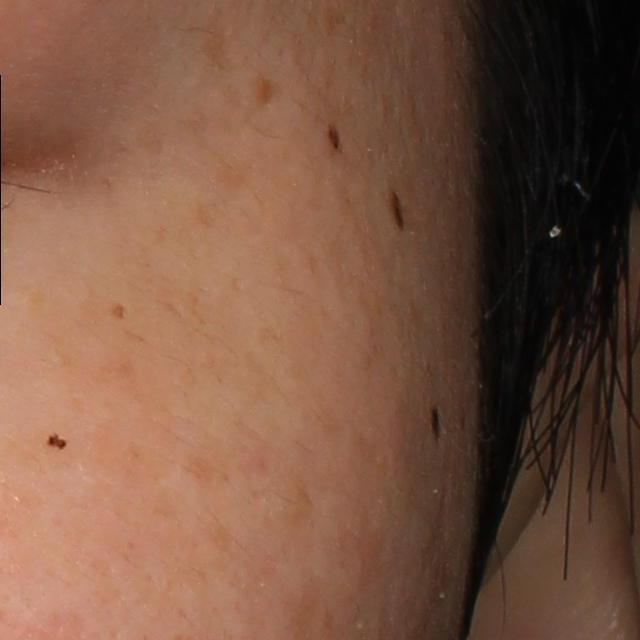melasma: (254, 76, 281, 110), (110, 299, 130, 321)
nevus: (390, 188, 409, 233), (42, 429, 72, 450), (428, 404, 445, 439), (325, 126, 341, 149)
